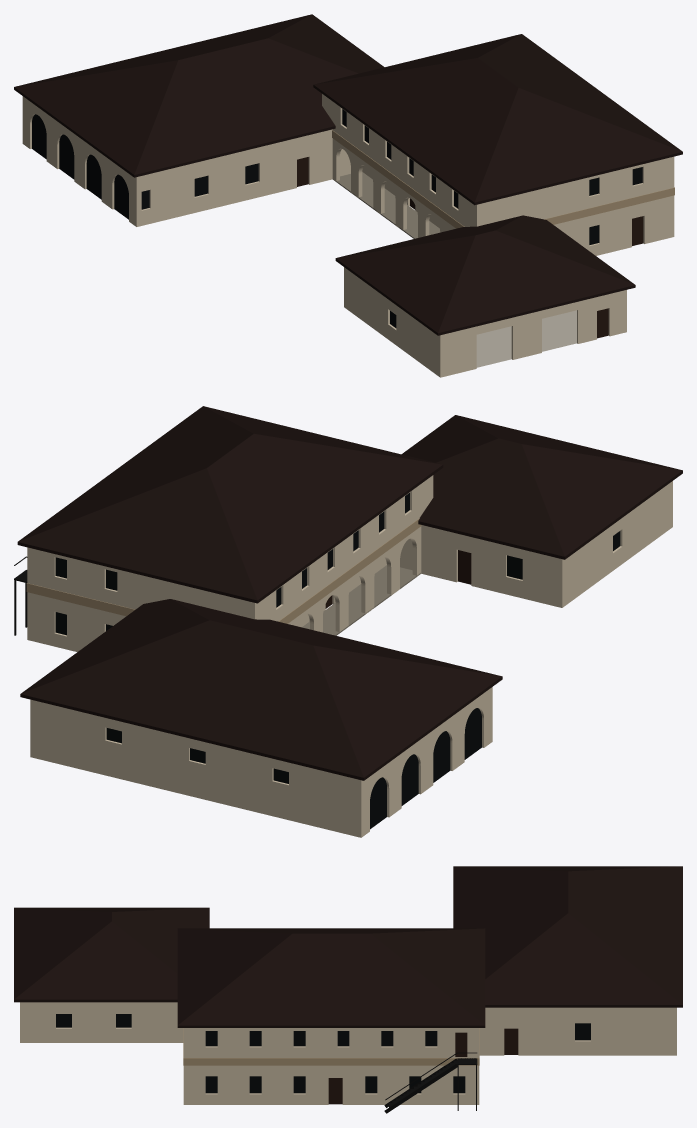
File: 7824-zero-rd-building.obj
3 renders of one model, top to bottom at view 1: azimuth 30°, elevation 25°; view 2: azimuth 150°, elevation 25°; view 3: azimuth 270°, elevation 25°, orthographic. The views are drawn at different scales.
Parts seen in each view (by area): view 1: roof, wall, glass, garage, floor_band, loggia_floor, door; view 2: roof, wall, glass, floor_band, loggia_floor; view 3: roof, wall, glass, floor_band, door, stringer.
Part boxes in pixels (x1,y1,x2,y2): roof: [14, 14, 682, 335]; wall: [22, 94, 674, 377]; glass: [32, 109, 642, 327]; garage: [476, 310, 576, 367]; floor_band: [332, 130, 674, 228]; loggia_floor: [336, 172, 440, 238]; door: [297, 157, 643, 338]; roof: [17, 406, 682, 780]; wall: [27, 475, 672, 837]; glass: [55, 493, 620, 829]; floor_band: [26, 518, 421, 623]; loggia_floor: [302, 565, 420, 635]; roof: [14, 866, 682, 1027]; wall: [20, 1002, 676, 1104]; glass: [56, 1014, 590, 1093]; floor_band: [183, 1028, 479, 1065]; door: [328, 1028, 518, 1104]; stringer: [384, 1058, 458, 1113].
Bounding box in the file's own units: 114 × 35.44 × 168.
